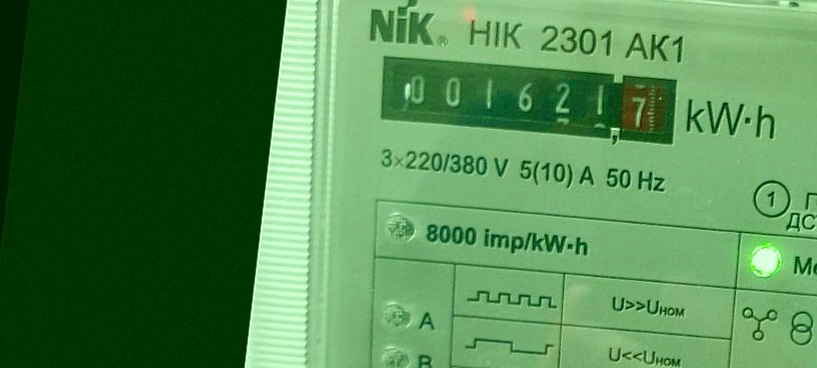0: (440, 72, 466, 111), (405, 70, 429, 106)
1: (591, 80, 609, 118), (480, 75, 498, 112)
2: (551, 79, 576, 117)
6: (514, 79, 537, 115)
7: (625, 92, 649, 131)
screen: (371, 42, 686, 158)
